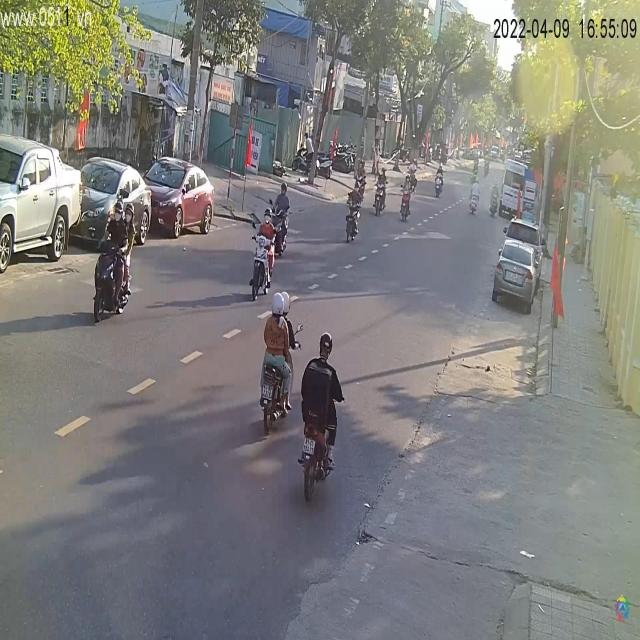car: (1, 136, 83, 276), (76, 160, 154, 249), (140, 157, 216, 240), (493, 226, 545, 314), (498, 159, 537, 220)
motorcycle: (296, 384, 341, 502), (90, 224, 135, 324), (255, 332, 295, 433), (248, 224, 274, 303), (343, 184, 364, 243), (434, 175, 444, 198)
